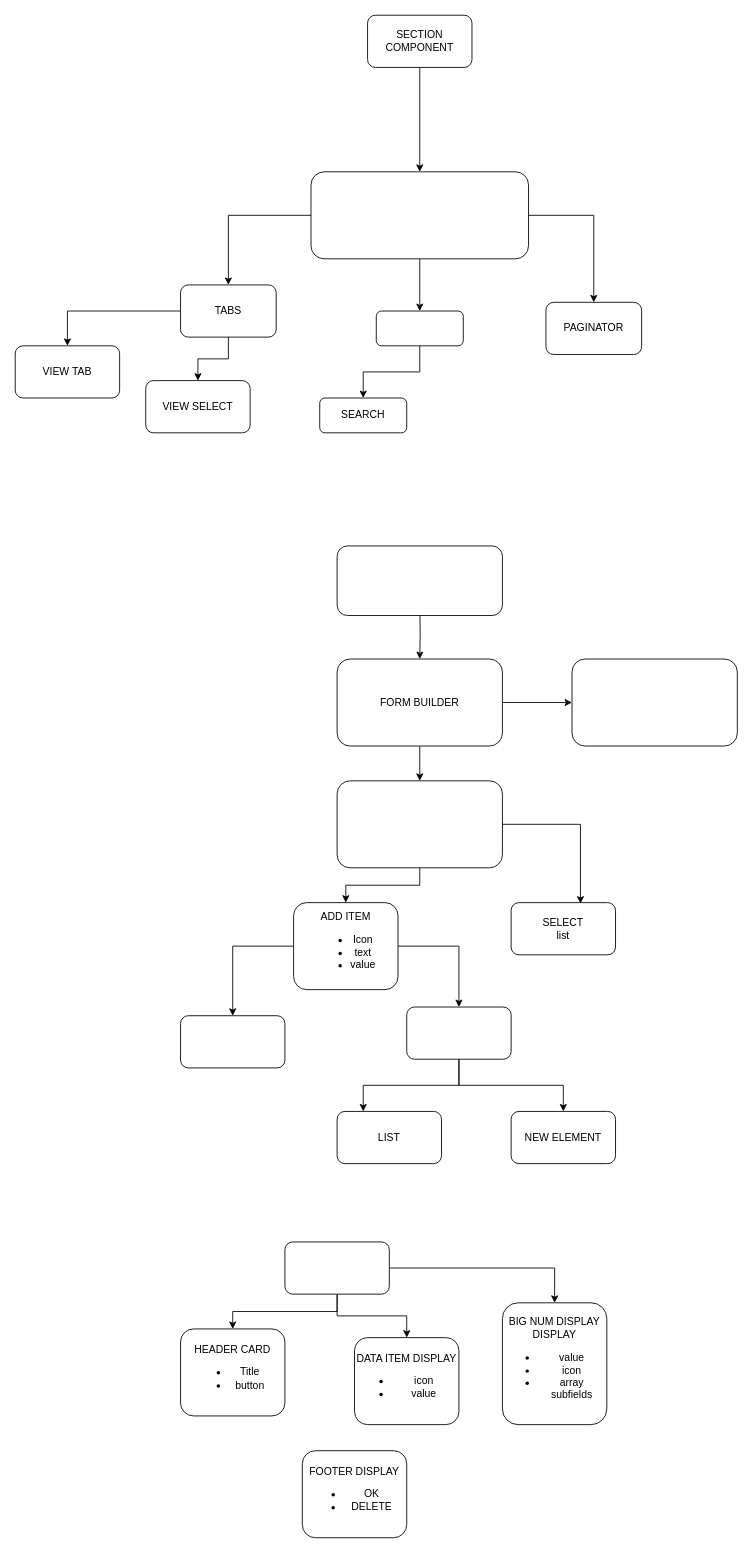
The diagram is 753 pixels wide and 1553 high, and some of its shapes have lost their labels. The centre of each missing label's shape, as x and y in pixels:
"BUTTONS" belongs at (x=419, y=328).
"CARD DISPLAY" belongs at (x=336, y=1267).
"DATA CONFIG" belongs at (x=458, y=1032).
"DATACONFIG FORM" belongs at (x=419, y=580).
"DATE" belongs at (x=232, y=1041).
"FORM INPUT" belongs at (x=419, y=824).
"FORM PART" belongs at (x=654, y=702).
"TABLE title" belongs at (x=419, y=215).
